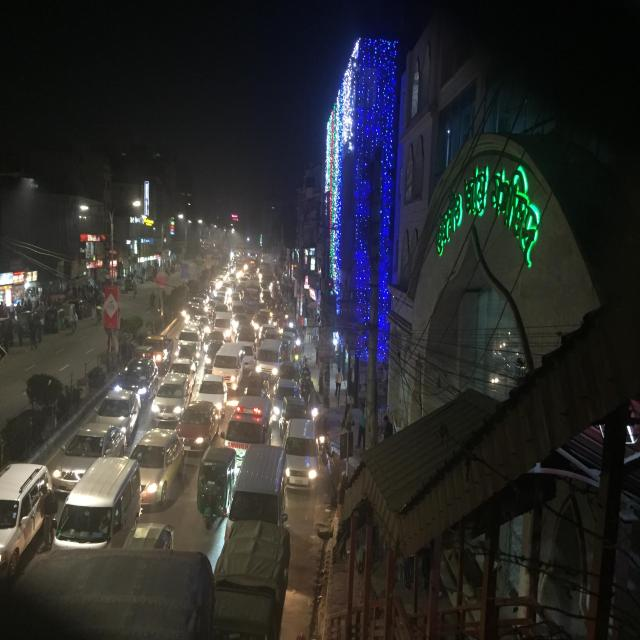silver: (55, 418, 127, 498)
white: (57, 454, 142, 561), (0, 464, 57, 584), (228, 438, 288, 546), (129, 428, 181, 510), (223, 390, 273, 470), (282, 418, 323, 494), (93, 388, 140, 442), (155, 370, 186, 426), (212, 342, 246, 390), (197, 373, 226, 422), (256, 338, 282, 386)
